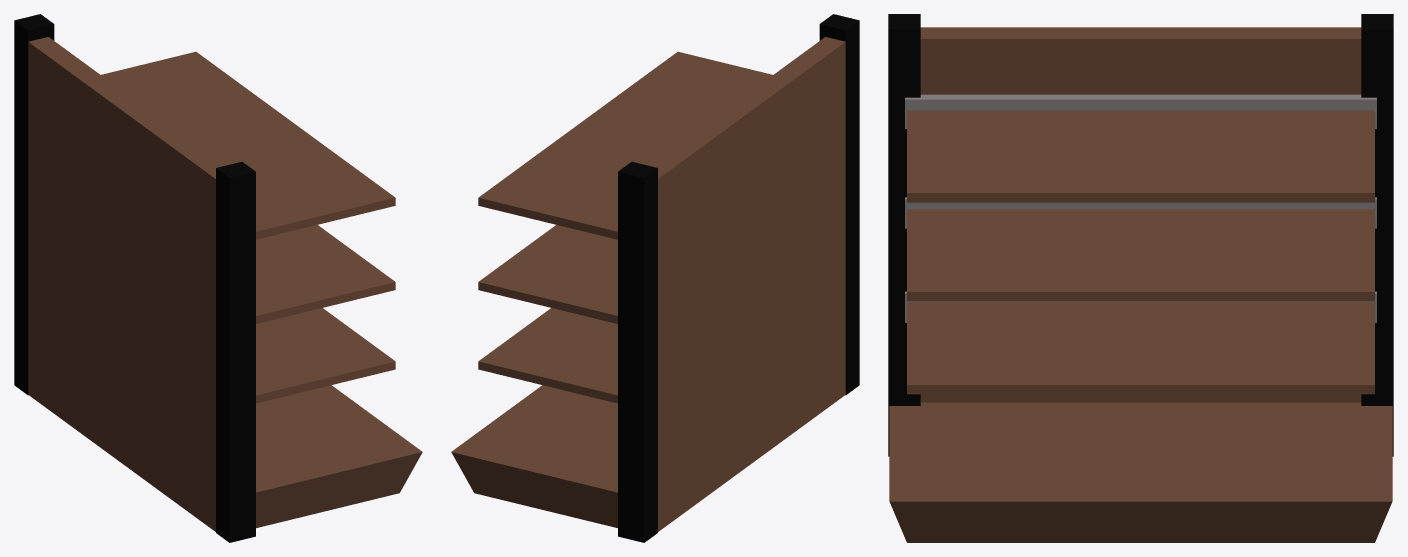
The model's file is market_shelf 1.fbx.
3 renders of one model, left to right at view 1: azimuth 30°, elevation 25°; view 2: azimuth 150°, elevation 25°; view 3: azimuth 270°, elevation 25°, orthographic. The views are drawn at different scales.
Visible parts, largest first — view 1: Cube, Cube.002, Cube.001, Cube.006, Cube.004, Cube.003, Cube.005; view 2: Cube, Cube.002, Cube.001, Cube.005, Cube.004, Cube.003, Cube.006; view 3: Cube.001, Cube.002, Cube.003, Cube.004, Cube, Cube.005, Cube.006, Cube.009, Cube.008, Cube.007.
Part boxes in pixels (bbox=[...]): Cube: bbox=[28, 37, 224, 531]; Cube.002: bbox=[101, 51, 395, 239]; Cube.001: bbox=[256, 385, 422, 527]; Cube.006: bbox=[216, 161, 255, 542]; Cube.004: bbox=[256, 225, 395, 323]; Cube.003: bbox=[256, 308, 395, 403]; Cube.005: bbox=[14, 14, 54, 395]; Cube: bbox=[649, 37, 845, 531]; Cube.002: bbox=[478, 51, 772, 239]; Cube.001: bbox=[451, 385, 617, 527]; Cube.005: bbox=[618, 161, 657, 542]; Cube.004: bbox=[478, 225, 617, 323]; Cube.003: bbox=[478, 308, 617, 403]; Cube.006: bbox=[819, 14, 859, 395]; Cube.001: bbox=[889, 402, 1392, 542]; Cube.002: bbox=[907, 110, 1374, 202]; Cube.003: bbox=[907, 302, 1374, 394]; Cube.004: bbox=[907, 209, 1374, 301]; Cube: bbox=[920, 27, 1361, 402]; Cube.005: bbox=[1361, 14, 1393, 456]; Cube.006: bbox=[888, 14, 920, 456]; Cube.009: bbox=[905, 94, 1376, 128]; Cube.008: bbox=[905, 197, 1376, 228]; Cube.007: bbox=[905, 291, 1376, 322].
Bounding box in the file's own units: 317 × 571 × 612.
